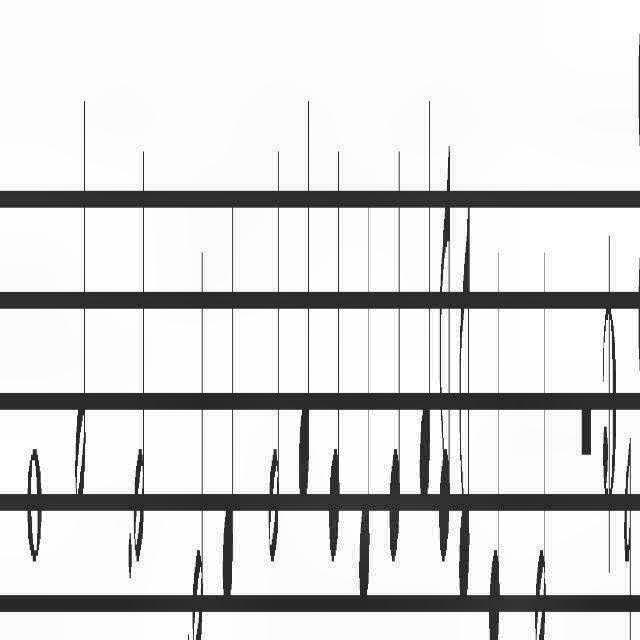Bemol: (624, 432, 632, 640)
Eighth-note: (458, 182, 470, 618), (440, 130, 452, 566)
Full-note: (27, 449, 43, 566)
Half-note: (268, 134, 280, 566), (134, 144, 146, 566), (75, 96, 87, 510), (535, 240, 547, 640), (193, 236, 203, 640)
Quarter-note: (297, 92, 311, 514), (418, 96, 432, 510), (389, 144, 401, 580), (222, 182, 234, 618), (359, 186, 371, 618), (328, 139, 340, 571), (490, 225, 502, 640)
